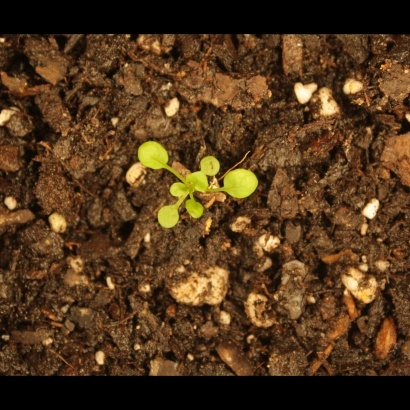leaf: (122, 130, 176, 175), (224, 164, 270, 207), (193, 146, 225, 179), (164, 176, 195, 210), (153, 199, 183, 233), (185, 166, 213, 194), (181, 196, 210, 222)
